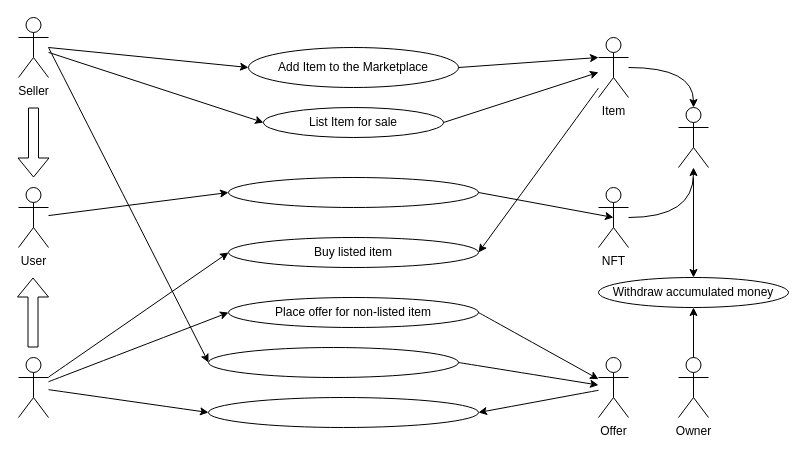
The diagram is 806 pixels wide and 456 high, and some of its shapes have lost their labels. The shapes that lost their labels are listed below. From the top down, each one's centre as x and y in pixels, then its label:
At point (693, 137): "Marketplace".
At point (353, 192): "Register collection to the Marketplace".
At point (333, 362): "Accept placed offer".
At point (33, 387): "Buyer".
At point (343, 412): "Claim Item".
